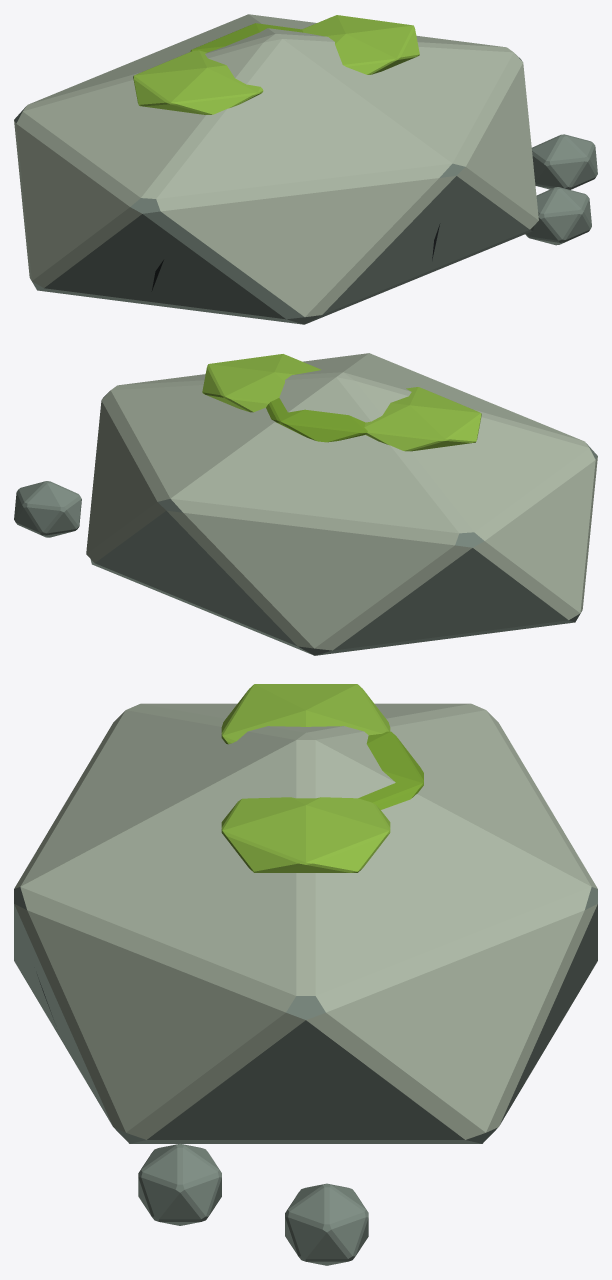
File: rock-3.glb
The picture shows the model from 3 angles, top to bottom: view 1: azimuth 30°, elevation 25°; view 2: azimuth 150°, elevation 25°; view 3: azimuth 270°, elevation 25°; orthographic projection. The views are drawn at different scales.
Visible parts, largest first — view 1: Rock 3.001, Rock 3 moss patch 0.001, Rock 3 moss patch 2.001, Rock 3 pebble 1.001, Rock 3 pebble 0.001, Rock 3 moss patch 1.001; view 2: Rock 3.001, Rock 3 moss patch 0.001, Rock 3 moss patch 2.001, Rock 3 pebble 1.001, Rock 3 moss patch 1.001; view 3: Rock 3.001, Rock 3 moss patch 2.001, Rock 3 moss patch 0.001, Rock 3 pebble 1.001, Rock 3 pebble 0.001, Rock 3 moss patch 1.001.
Boxes of the visible parts, box(x1,y1,x2,y2) form: Rock 3.001: box(14, 14, 538, 324); Rock 3 moss patch 0.001: box(133, 50, 263, 114); Rock 3 moss patch 2.001: box(302, 15, 419, 74); Rock 3 pebble 1.001: box(531, 134, 597, 189); Rock 3 pebble 0.001: box(525, 187, 591, 245); Rock 3 moss patch 1.001: box(190, 23, 303, 52); Rock 3.001: box(86, 353, 597, 655); Rock 3 moss patch 0.001: box(364, 387, 481, 451); Rock 3 moss patch 2.001: box(202, 354, 321, 412); Rock 3 pebble 1.001: box(14, 481, 81, 537); Rock 3 moss patch 1.001: box(266, 398, 367, 442); Rock 3.001: box(14, 703, 597, 1143); Rock 3 moss patch 2.001: box(221, 797, 390, 872); Rock 3 moss patch 0.001: box(221, 684, 390, 744); Rock 3 pebble 1.001: box(285, 1183, 368, 1265); Rock 3 pebble 0.001: box(138, 1143, 221, 1225); Rock 3 moss patch 1.001: box(358, 731, 423, 809).
Size of the model in its own units: 2.2 by 0.8539 by 1.39.
